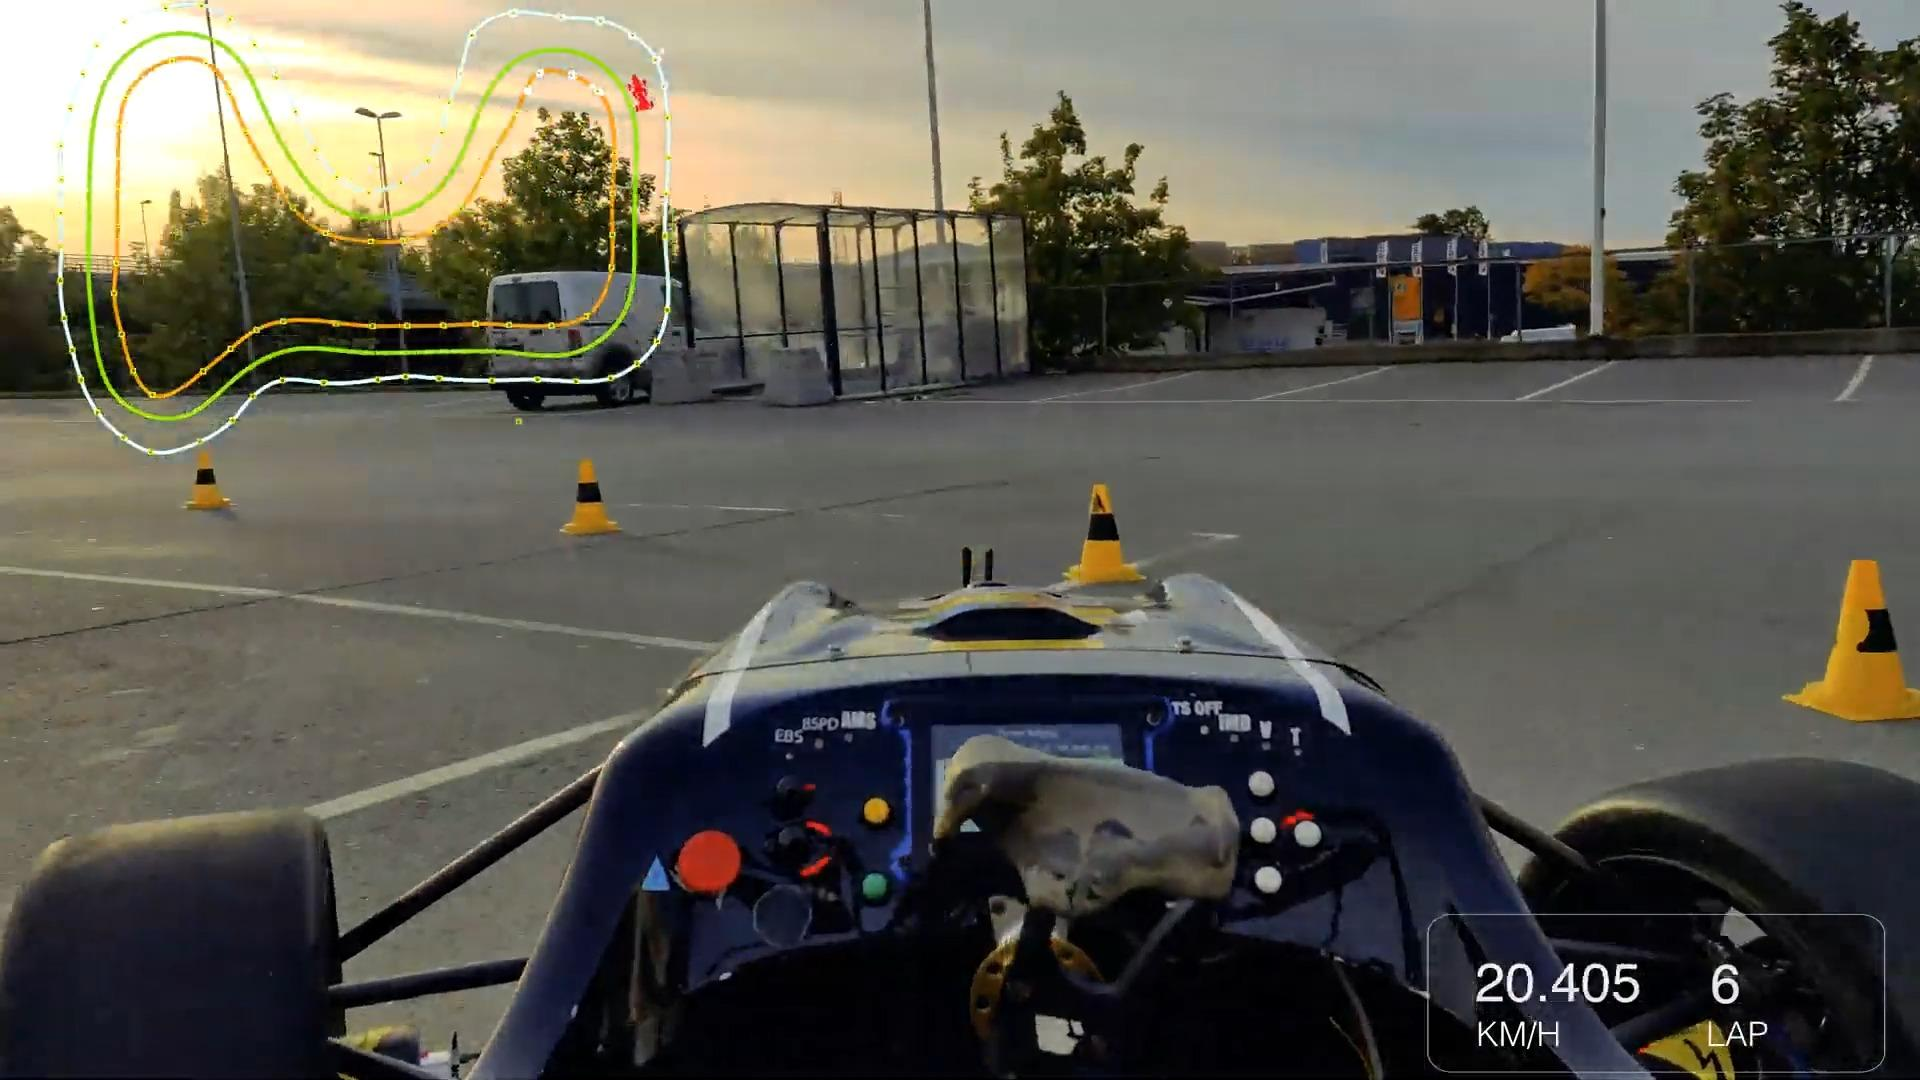yellow_cone: (1787, 558, 1920, 725), (1063, 479, 1145, 585), (559, 458, 624, 537), (183, 450, 229, 514)
